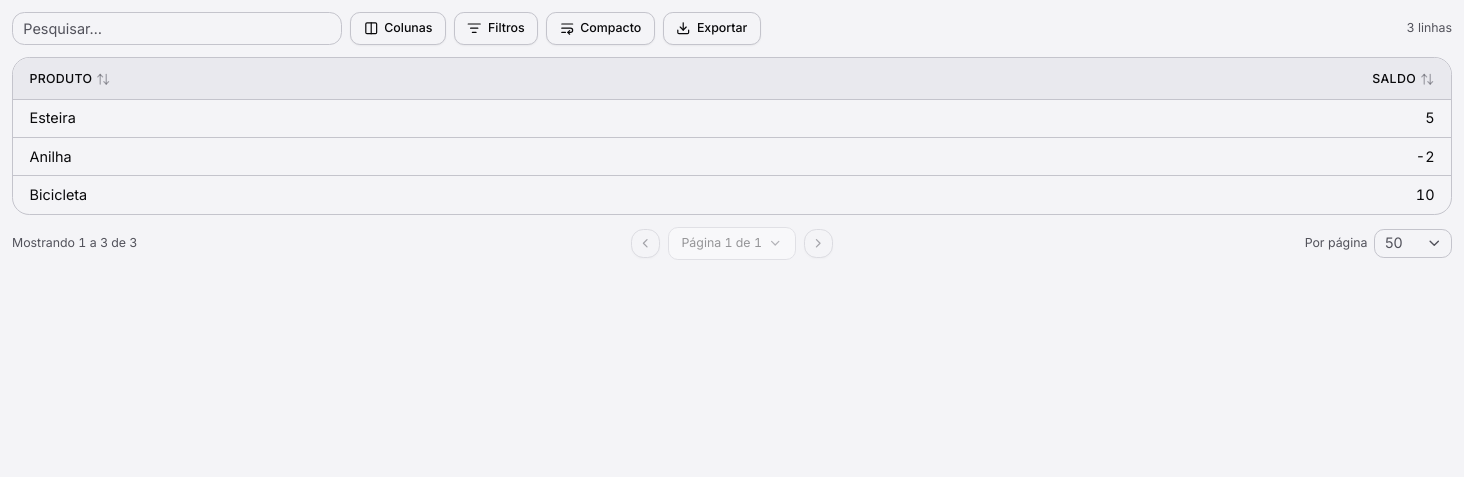
it: DataTable busca (c2) › exibe estado vazio quando nada casa
The image size is (1464, 477).
Type "zzz" into the field with placeholder "Pesquisar…" at (177, 28), box [12,12,342,45]
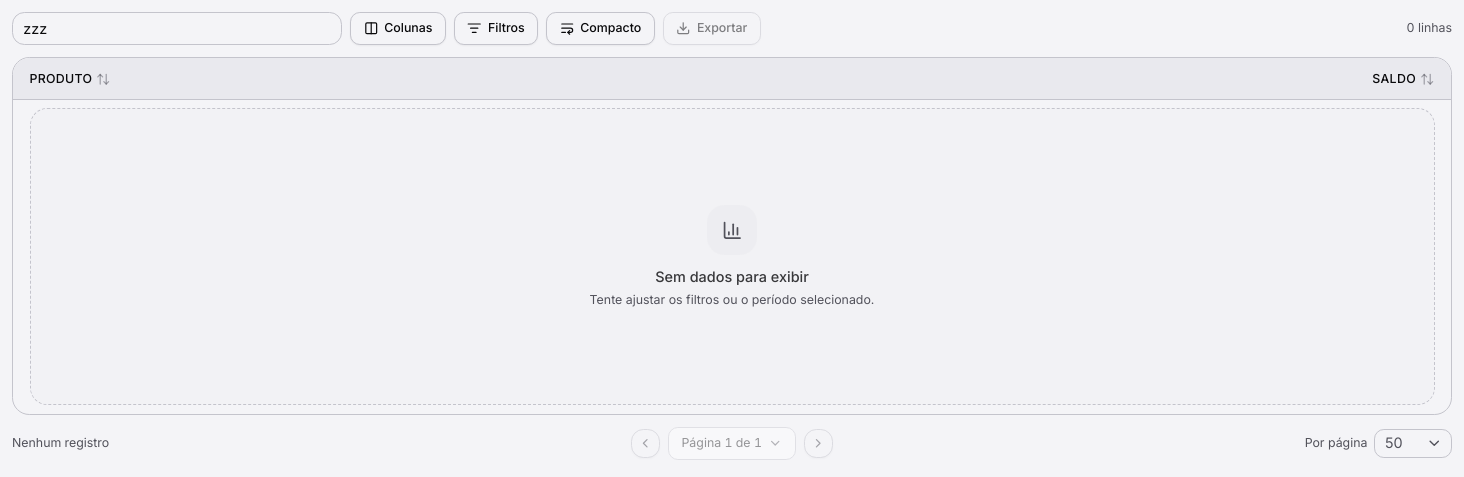
Expected: the text "Sem dados para exibir" is shown, [655,267,809,288]
